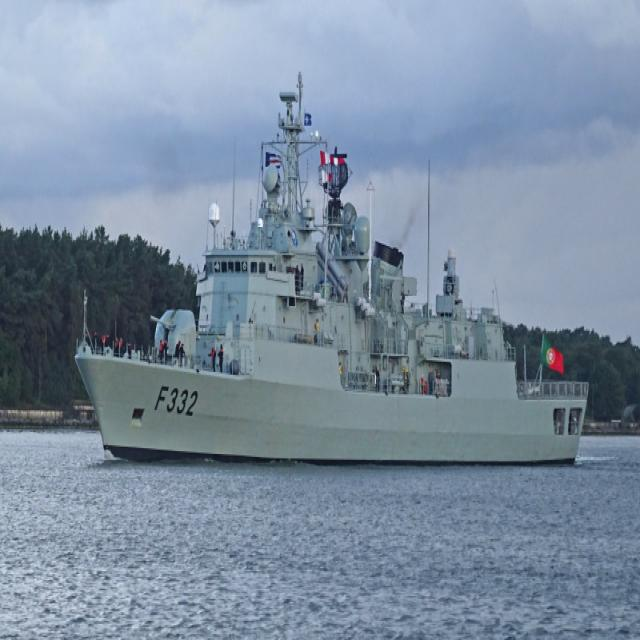Fragata: (71, 73, 589, 470)
